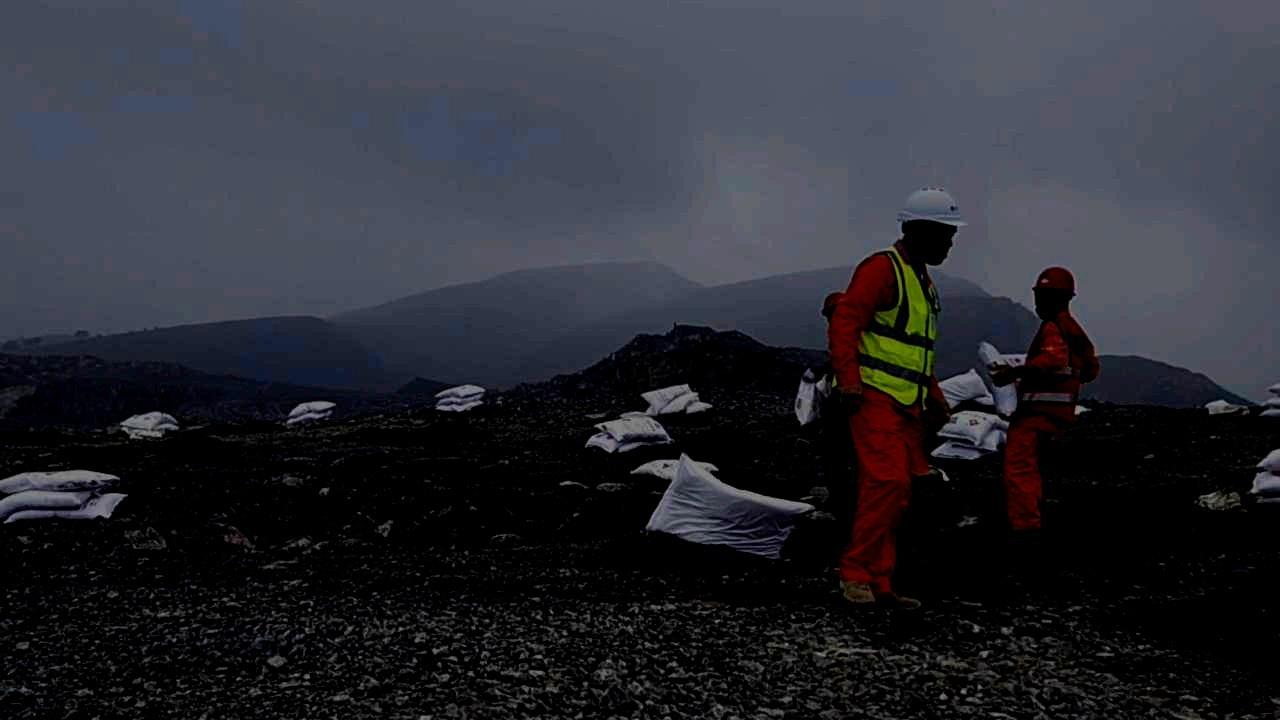helmet: (896, 184, 968, 266), (1031, 266, 1077, 318), (821, 291, 845, 321)
